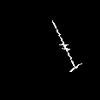treble_crochet: (52, 21, 79, 71)
